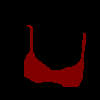reggiseno: (24, 24, 86, 87)
